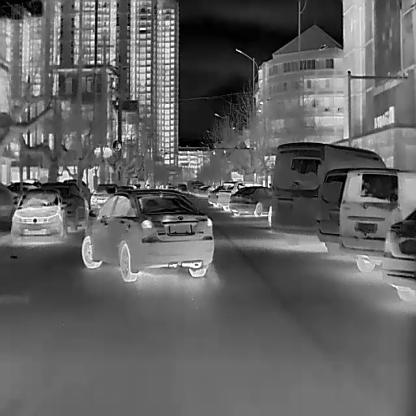car: (81, 188, 215, 282), (269, 140, 386, 247), (338, 167, 415, 272), (315, 163, 381, 255), (380, 206, 416, 302), (12, 189, 64, 242), (41, 180, 89, 233), (217, 179, 259, 212), (229, 184, 271, 217), (90, 182, 118, 214)
